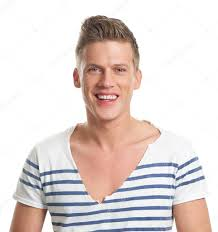white_male: (69, 41, 132, 111)
